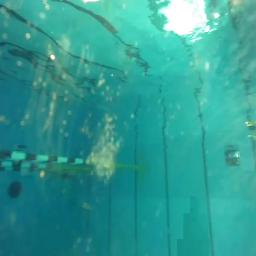Full: (224, 147, 241, 164)
